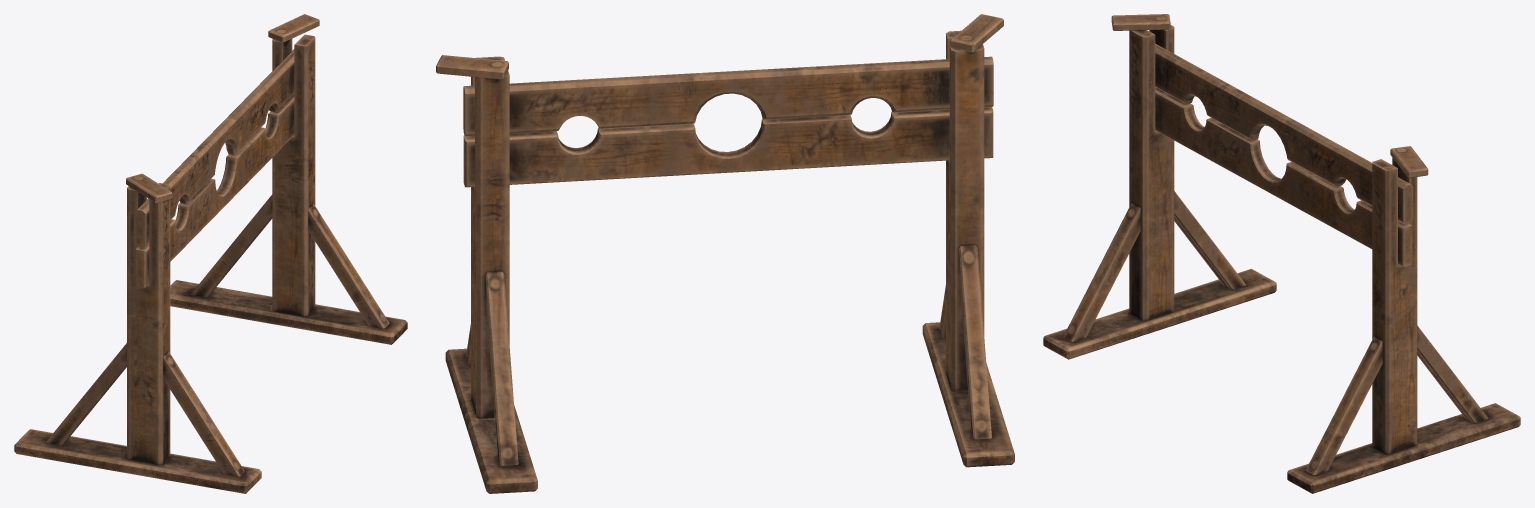
File: stocks.glb
3 views of the same model, side by side, from view 1: azimuth 30°, elevation 25°; view 2: azimuth 150°, elevation 25°; view 3: azimuth 270°, elevation 25° (orthographic). The views are drawn at different scales.
Visible parts, largest first — view 1: defaultMaterial.009; view 2: defaultMaterial.009; view 3: defaultMaterial.009.
Boxes of the visible parts, x1,y1,x2,y2 form: defaultMaterial.009: (14, 14, 407, 493); defaultMaterial.009: (436, 14, 1014, 493); defaultMaterial.009: (1043, 14, 1520, 493).
Bounding box in the file's own units: 0.7977 × 0.521 × 0.7463.
1 material, 1 textured.
